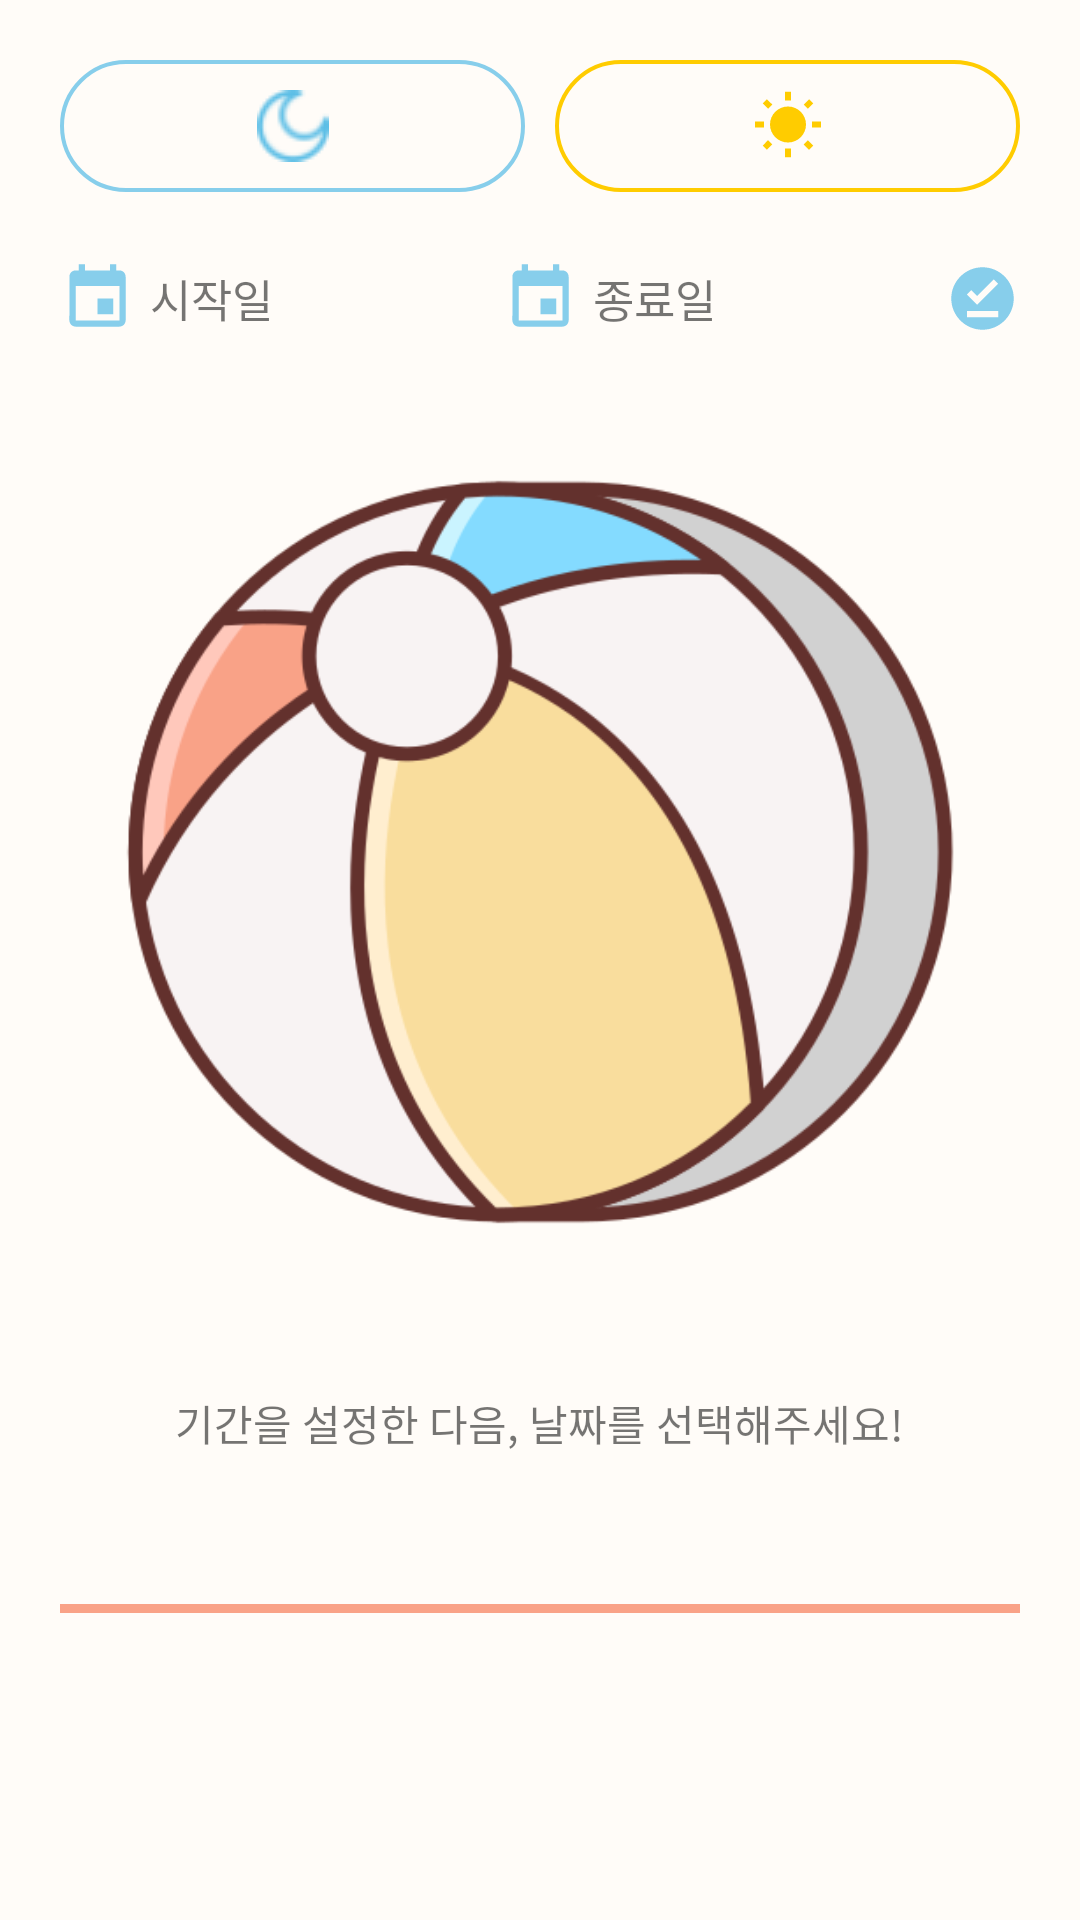

Point at icon controls on the screen. Image size 1080 × 1920, points as (x=x, y=y).
calendar: (x=97, y=295), (x=540, y=295)
